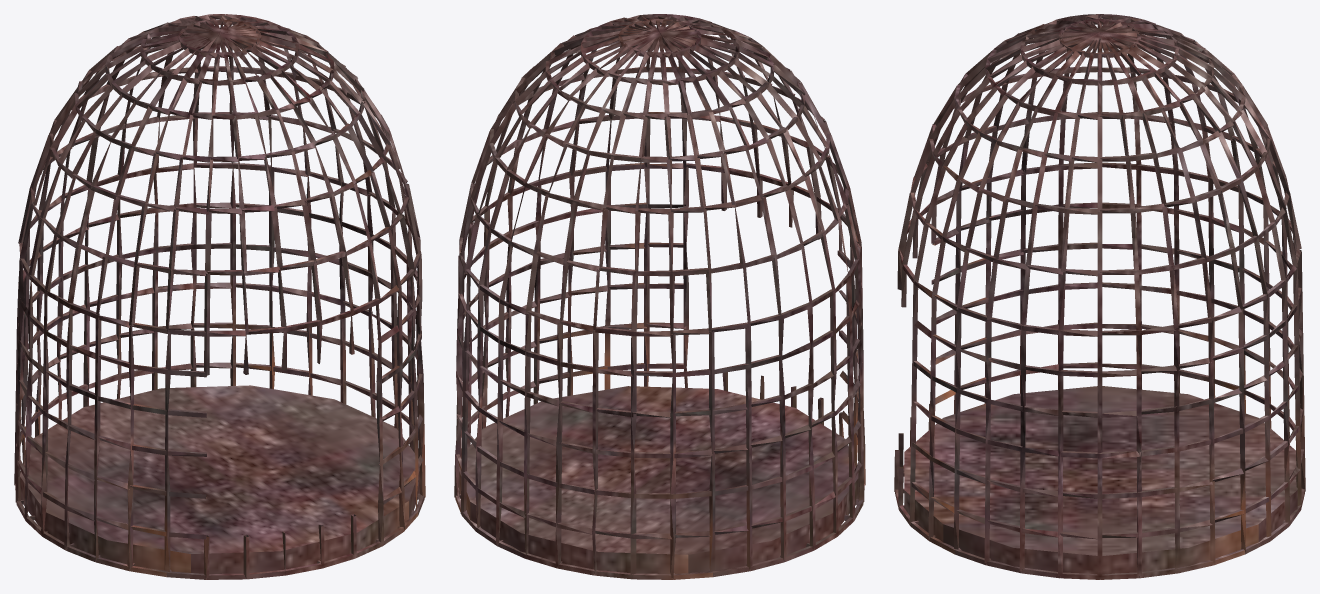
Rendered from jaula.FBX.
3 views of the same model, side by side, from view 1: azimuth 30°, elevation 25°; view 2: azimuth 150°, elevation 25°; view 3: azimuth 270°, elevation 25° (orthographic).
Parts seen in each view (by area): view 1: jaula; view 2: jaula; view 3: jaula.
Boxes of the visible parts, x1,y1,x2,y2 form: jaula: [14, 14, 425, 579]; jaula: [454, 14, 865, 579]; jaula: [894, 14, 1305, 579].
Bounding box in the file's own units: 12.53 × 15.54 × 12.55.
